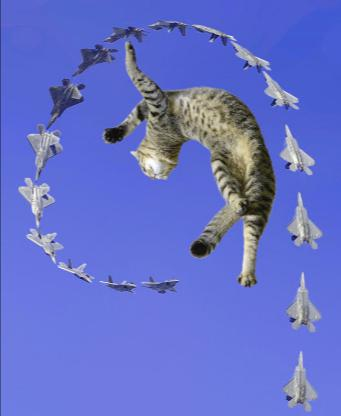F18: (286, 190, 324, 250), (26, 124, 64, 183), (282, 349, 318, 411), (286, 272, 322, 332), (45, 78, 85, 130), (278, 123, 316, 175), (18, 177, 54, 229), (71, 43, 119, 77), (262, 70, 300, 110), (25, 226, 63, 264), (230, 41, 272, 74), (190, 24, 238, 46), (56, 257, 93, 283), (102, 25, 150, 43), (147, 19, 193, 36), (99, 275, 138, 295), (139, 276, 179, 294)
